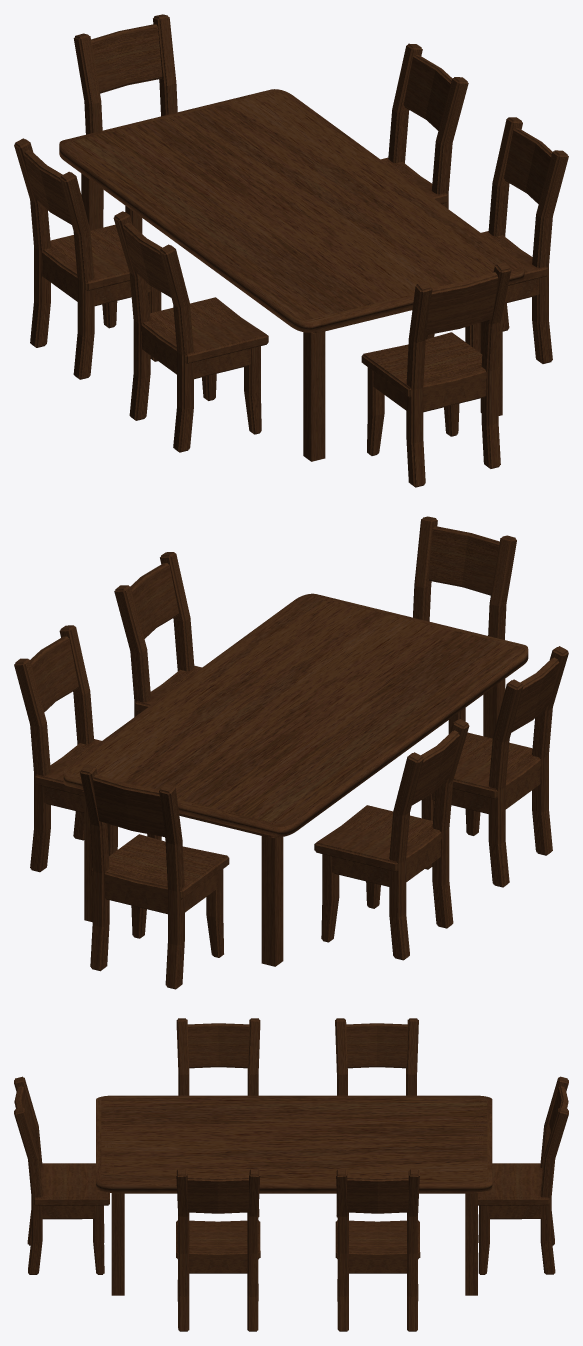
The picture shows the model from 3 angles, top to bottom: view 1: azimuth 30°, elevation 25°; view 2: azimuth 150°, elevation 25°; view 3: azimuth 270°, elevation 25°; orthographic projection. The views are drawn at different scales.
Parts seen in each view (by area): view 1: 식탁,의자; view 2: 식탁,의자; view 3: 식탁,의자.
Boxes of the visible parts, left/top/right/bottom form: 식탁,의자: left=14, top=14, right=568, bottom=487; 식탁,의자: left=14, top=516, right=568, bottom=989; 식탁,의자: left=14, top=1018, right=568, bottom=1331.
Size of the model in its own units: 416 by 204 by 621.
2 materials, 2 textured.
